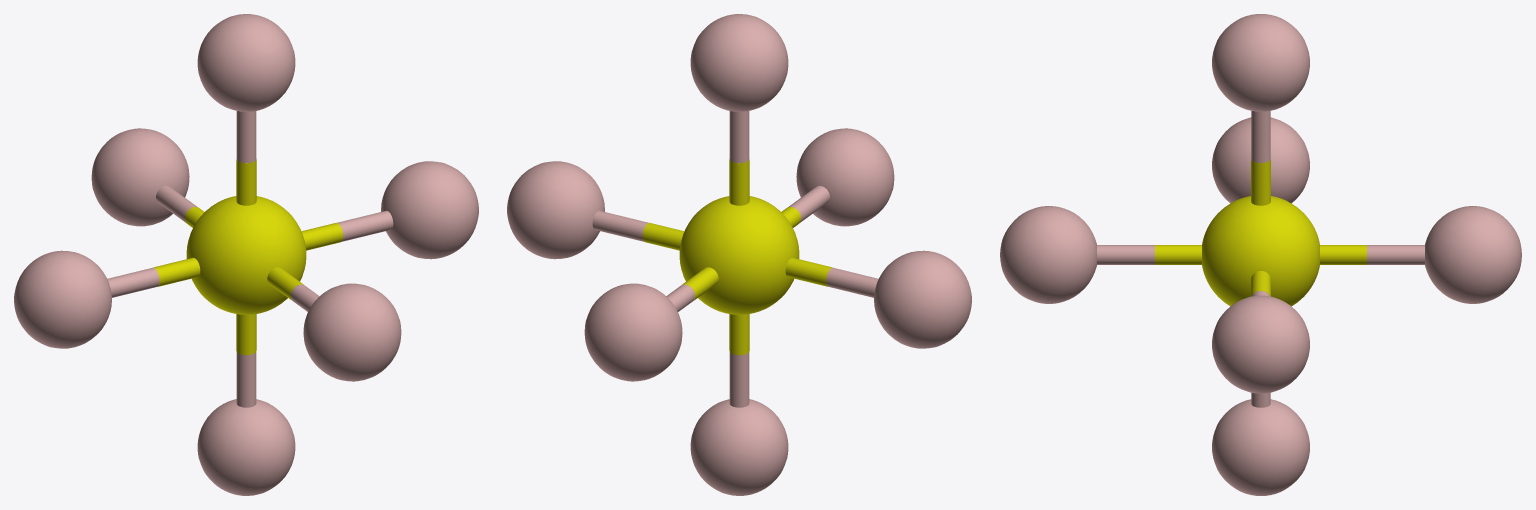
3 views of the same model, side by side, from view 1: azimuth 30°, elevation 25°; view 2: azimuth 150°, elevation 25°; view 3: azimuth 270°, elevation 25° (orthographic).
Parts seen in each view (by area): view 1: SF6; view 2: SF6; view 3: SF6.
Boxes of the visible parts, left/top/right/bottom form: SF6: left=14, top=14, right=478, bottom=495; SF6: left=507, top=14, right=971, bottom=495; SF6: left=1000, top=14, right=1521, bottom=495.
Size of the model in its own units: 1.85 by 1.85 by 1.85.
